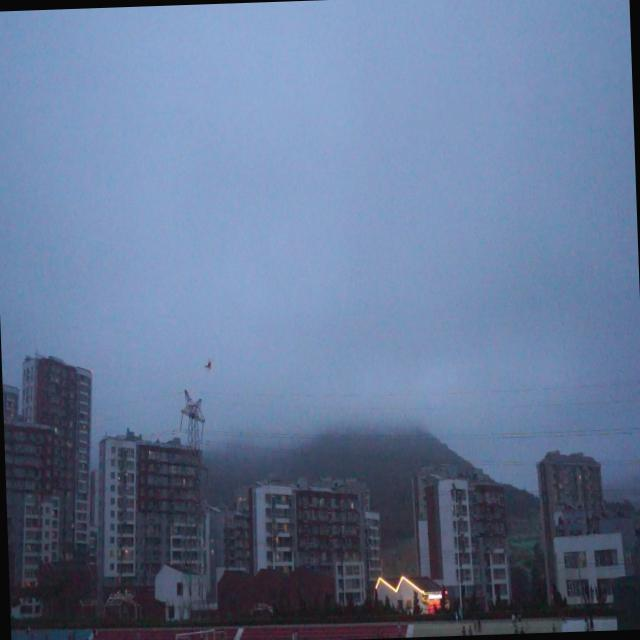drone: (203, 355, 214, 374)
